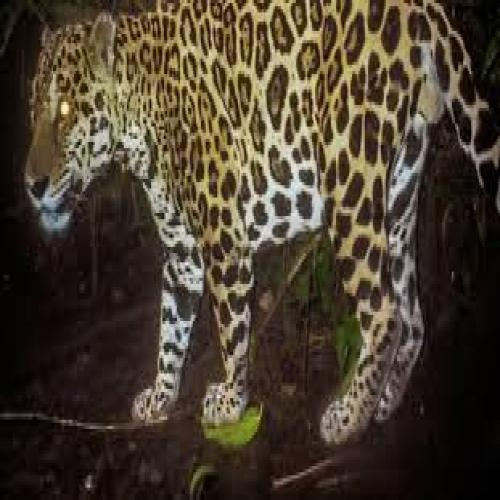jaguar_not-endangered: (26, 0, 428, 444)
